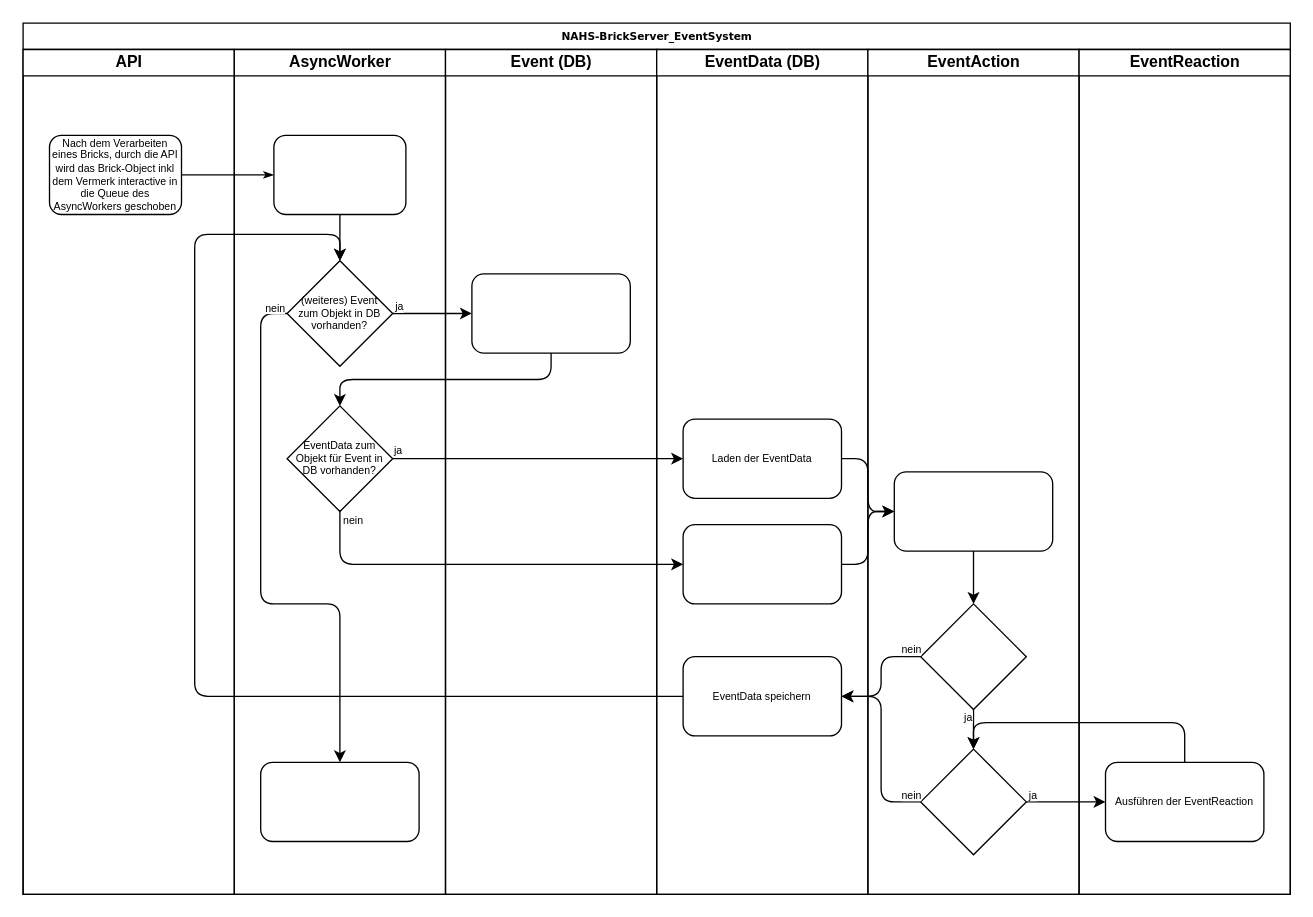
Image size: 1313x917. Some labels were removed from this diagram. The centre of each missing label's shape, as x and y in pixels:
(weitere) EventReaction vorhanden?: (972,801)
Ausführen der EventAction: (973,511)
Erstellen eines neuen EventData Eintrags: (762,563)
EventAction result == triggered?: (972,656)
Laden des Events aus DB: (550,313)
Nimmt das nächste Objekt aus der Queue: (339,174)
Nächstes Objekt in Queue wird verarbeitet: (339,801)
